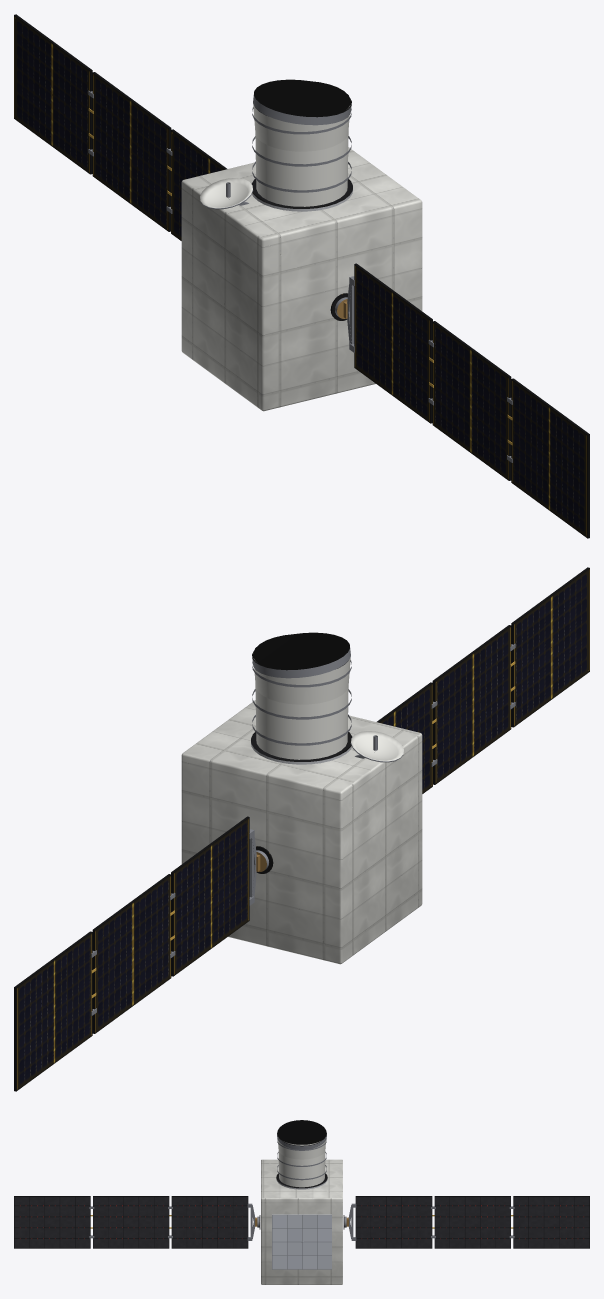
File: worldview-legion.glb
3 renders of one model, top to bottom at view 1: azimuth 30°, elevation 25°; view 2: azimuth 150°, elevation 25°; view 3: azimuth 270°, elevation 25°, orthographic. The views are drawn at different scales.
Visible parts, largest first — view 1: bus, wing-Y, wing+Y; view 2: bus, wing+Y, wing-Y; view 3: wing+Y, wing-Y, bus.
Boxes of the visible parts, x1,y1,x2,y2 form: bus: (181, 79, 422, 411); wing-Y: (343, 263, 589, 538); wing+Y: (14, 14, 226, 240); bus: (181, 632, 422, 964); wing+Y: (14, 816, 260, 1091); wing-Y: (377, 567, 589, 793); wing+Y: (346, 1196, 589, 1248); wing-Y: (14, 1196, 257, 1248); bus: (261, 1120, 342, 1284).
Bounding box in the file's own units: 1.91 × 2.93 × 10.52.
15 materials, 5 textured.
